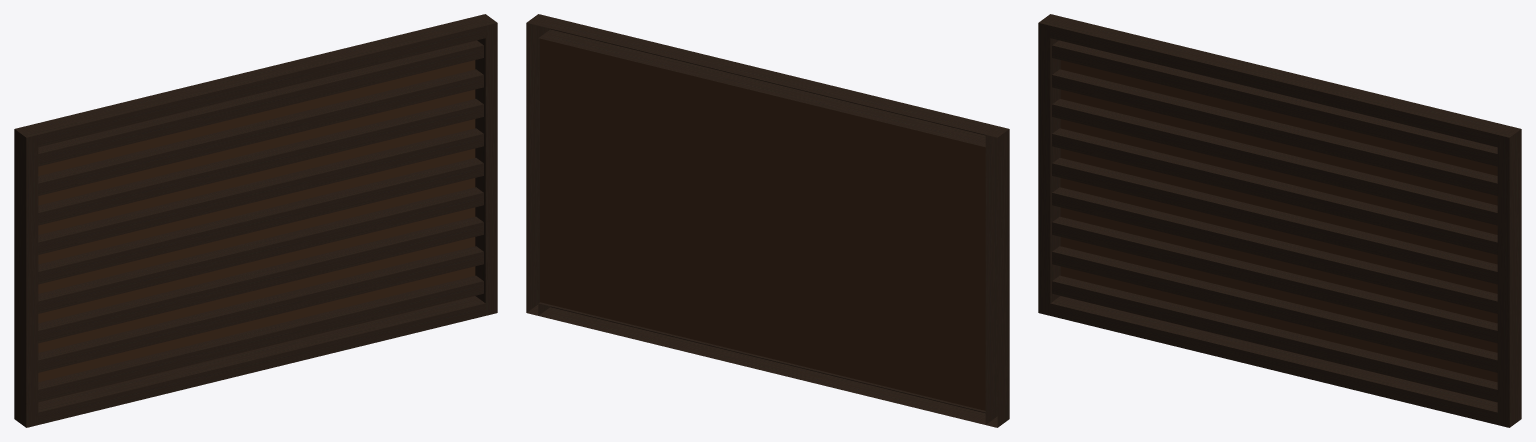
File: louver.glb
The picture shows the model from 3 angles, left to right: view 1: azimuth 30°, elevation 25°; view 2: azimuth 150°, elevation 25°; view 3: azimuth 330°, elevation 25°; orthographic projection.
Visible parts, largest first — view 1: louver; view 2: louver; view 3: louver.
Part boxes in pixels (left/top/right/bottom): louver: left=14, top=14, right=497, bottom=427; louver: left=526, top=14, right=1009, bottom=427; louver: left=1038, top=14, right=1521, bottom=427.
Size of the model in its own units: 3.16 by 1.86 by 0.14.
2 materials, 1 textured.
